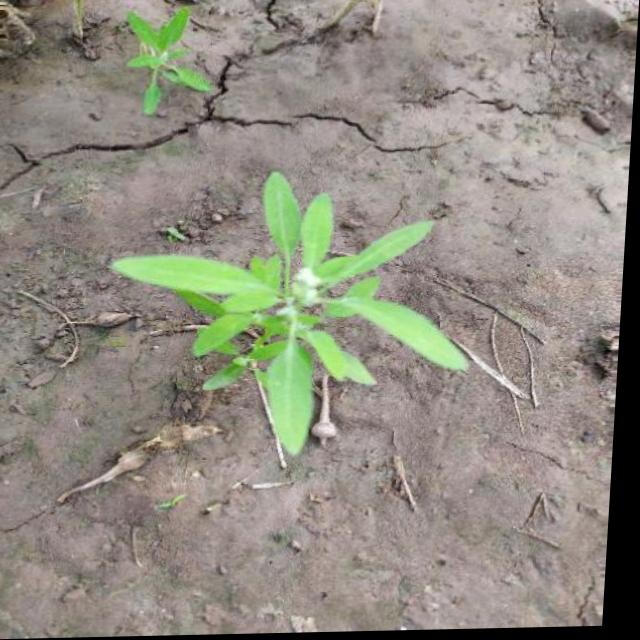weed: (102, 187, 491, 468)
